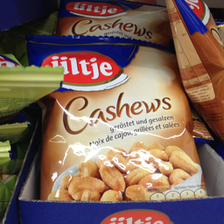nuts: (26, 34, 208, 201)
